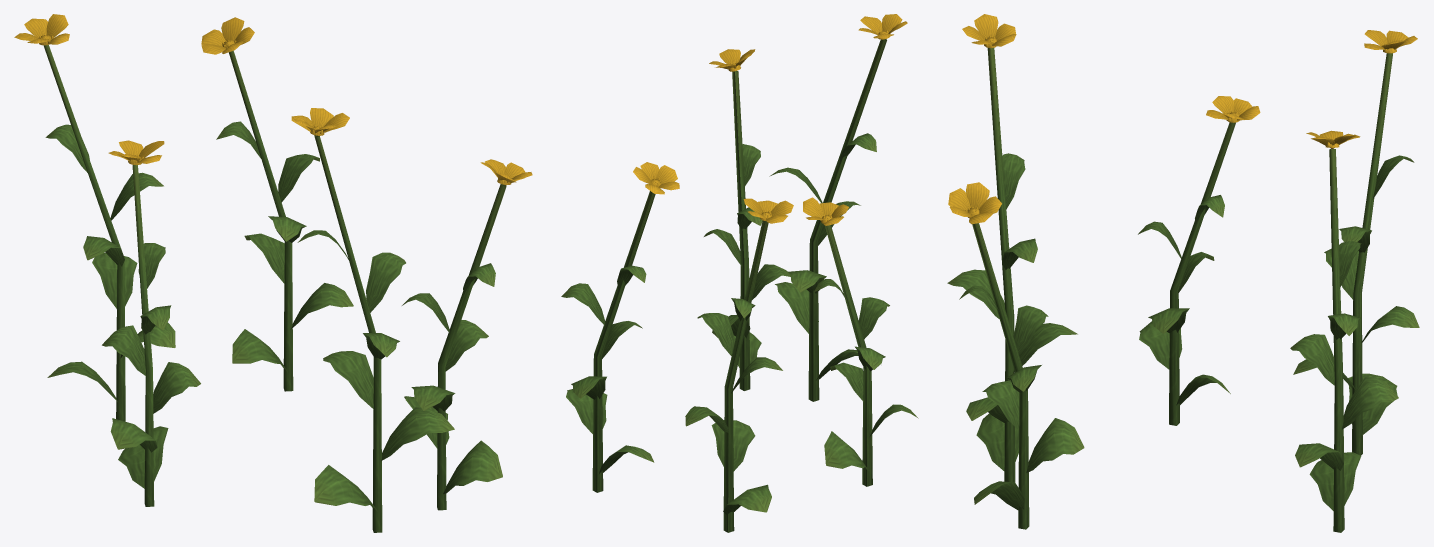
The model's file is Buttercup_A.fbx.
The picture shows the model from 3 angles, left to right: view 1: azimuth 30°, elevation 25°; view 2: azimuth 150°, elevation 25°; view 3: azimuth 270°, elevation 25°; orthographic projection. The views are drawn at different scales.
Parts seen in each view (by area): view 1: Buttercup_A_LOD0; view 2: Buttercup_A_LOD0; view 3: Buttercup_A_LOD0.
Boxes of the visible parts, bbox=[...] form: Buttercup_A_LOD0: bbox=[14, 14, 532, 532]; Buttercup_A_LOD0: bbox=[561, 14, 918, 532]; Buttercup_A_LOD0: bbox=[947, 14, 1419, 532].
Size of what is drawn, in the model's own units: 16.43 by 21.51 by 21.21.
Materials: 1 (1 with a texture image).
